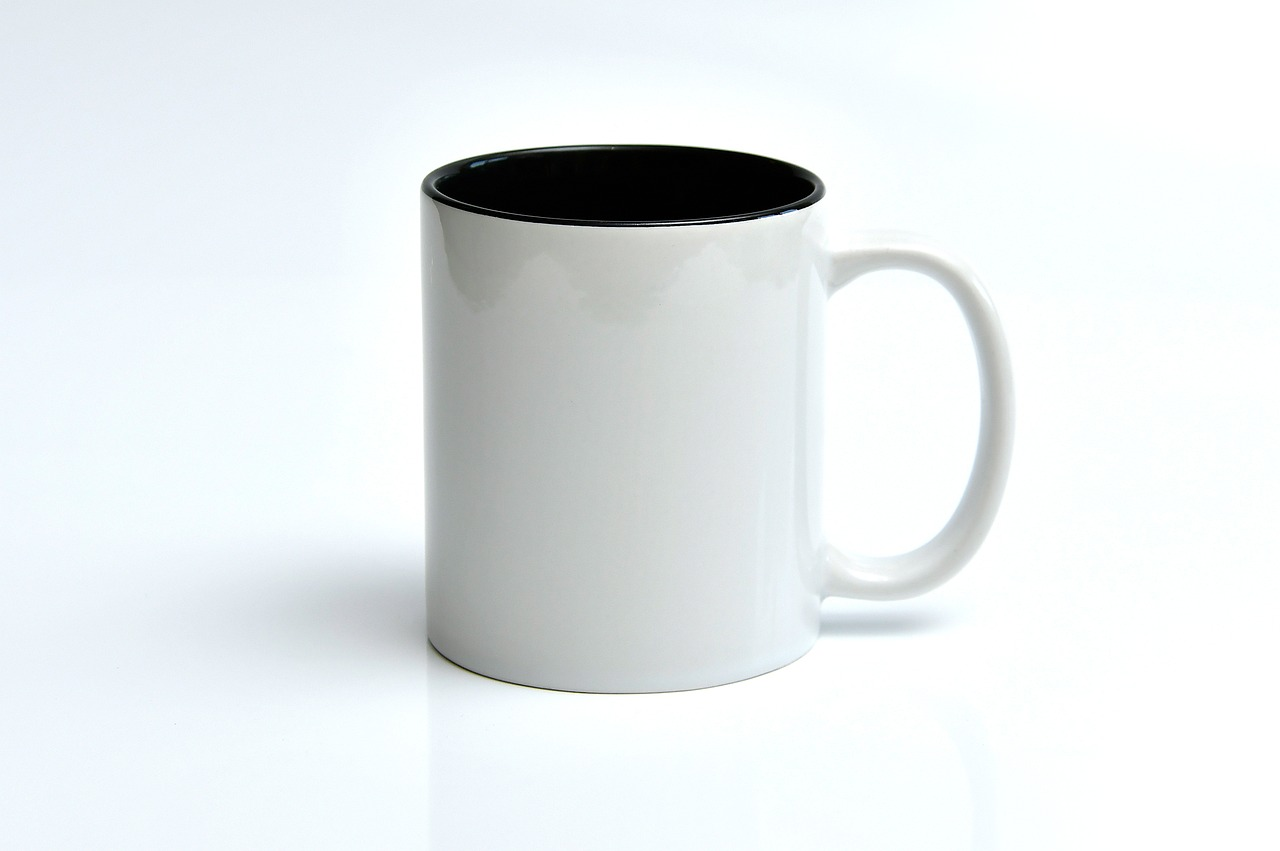mug: (423, 138, 1086, 748)
